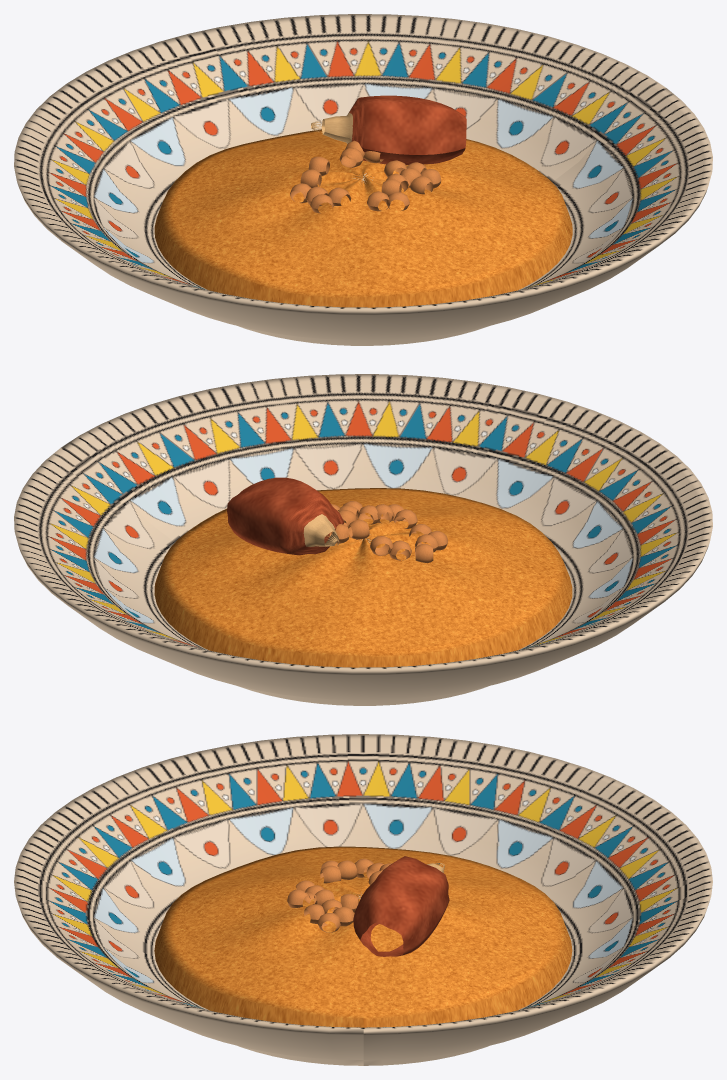
File: Couscous_Plat_040pct.obj
3 views of the same model, one above another, from view 1: azimuth 30°, elevation 25°; view 2: azimuth 150°, elevation 25°; view 3: azimuth 270°, elevation 25° (orthographic).
Visible parts, largest first — view 1: 00_Plate_Tebsi_Ceramic, 01_Couscous_Semolina_Mound, 02_Meat_Lamb_Shank_Main, 05_Chickpeas_Cluster; view 2: 00_Plate_Tebsi_Ceramic, 01_Couscous_Semolina_Mound, 02_Meat_Lamb_Shank_Main, 05_Chickpeas_Cluster; view 3: 00_Plate_Tebsi_Ceramic, 01_Couscous_Semolina_Mound, 02_Meat_Lamb_Shank_Main, 05_Chickpeas_Cluster.
Boxes of the visible parts, x1,y1,x2,y2 form: 00_Plate_Tebsi_Ceramic: (14, 14, 712, 345); 01_Couscous_Semolina_Mound: (154, 129, 572, 307); 02_Meat_Lamb_Shank_Main: (311, 95, 466, 164); 05_Chickpeas_Cluster: (290, 140, 441, 213); 00_Plate_Tebsi_Ceramic: (14, 374, 712, 705); 01_Couscous_Semolina_Mound: (154, 488, 572, 667); 02_Meat_Lamb_Shank_Main: (227, 477, 343, 555); 05_Chickpeas_Cluster: (326, 501, 447, 563); 00_Plate_Tebsi_Ceramic: (14, 734, 712, 1065); 01_Couscous_Semolina_Mound: (154, 846, 572, 1027); 02_Meat_Lamb_Shank_Main: (353, 856, 449, 956); 05_Chickpeas_Cluster: (287, 858, 391, 932).
Size of the model in its own units: 0.32 by 0.0711 by 0.32.
Materials: 1 (1 with a texture image).
